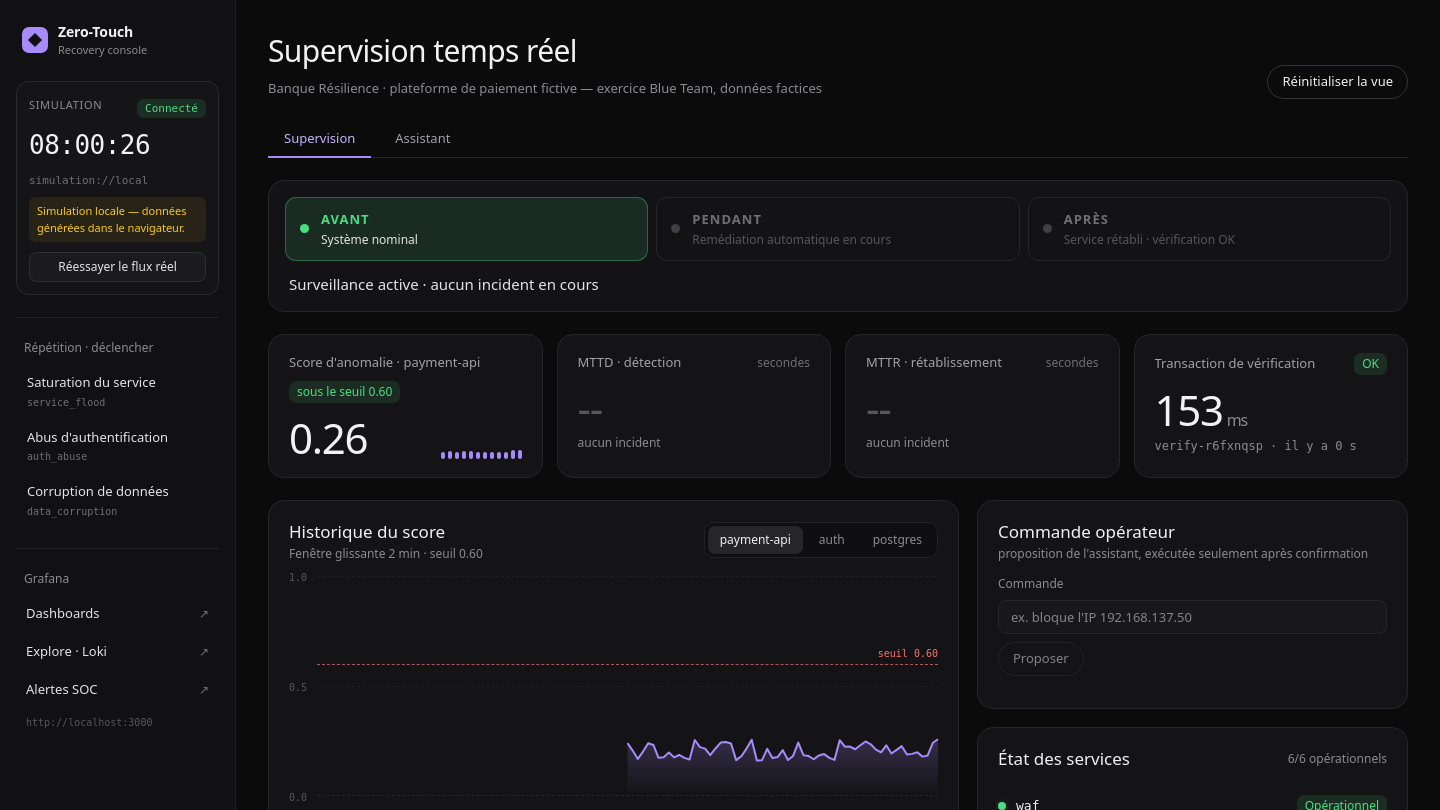
Test: Sources : simulation locale et déclencheurs › mode simulation : flux local signalé, incident complet jusqu’à APRÈS sans serveur
Check: the text "simulation://local" is shown, box [29,174,148,186]
Check: the text "Simulation locale — données générées dans le navigateur." is shown, box [29,197,206,242]
Click the button "Corruption de données data_corruption". click: (118, 500)
box: [16,475,219,526]
Wait 9000 ms
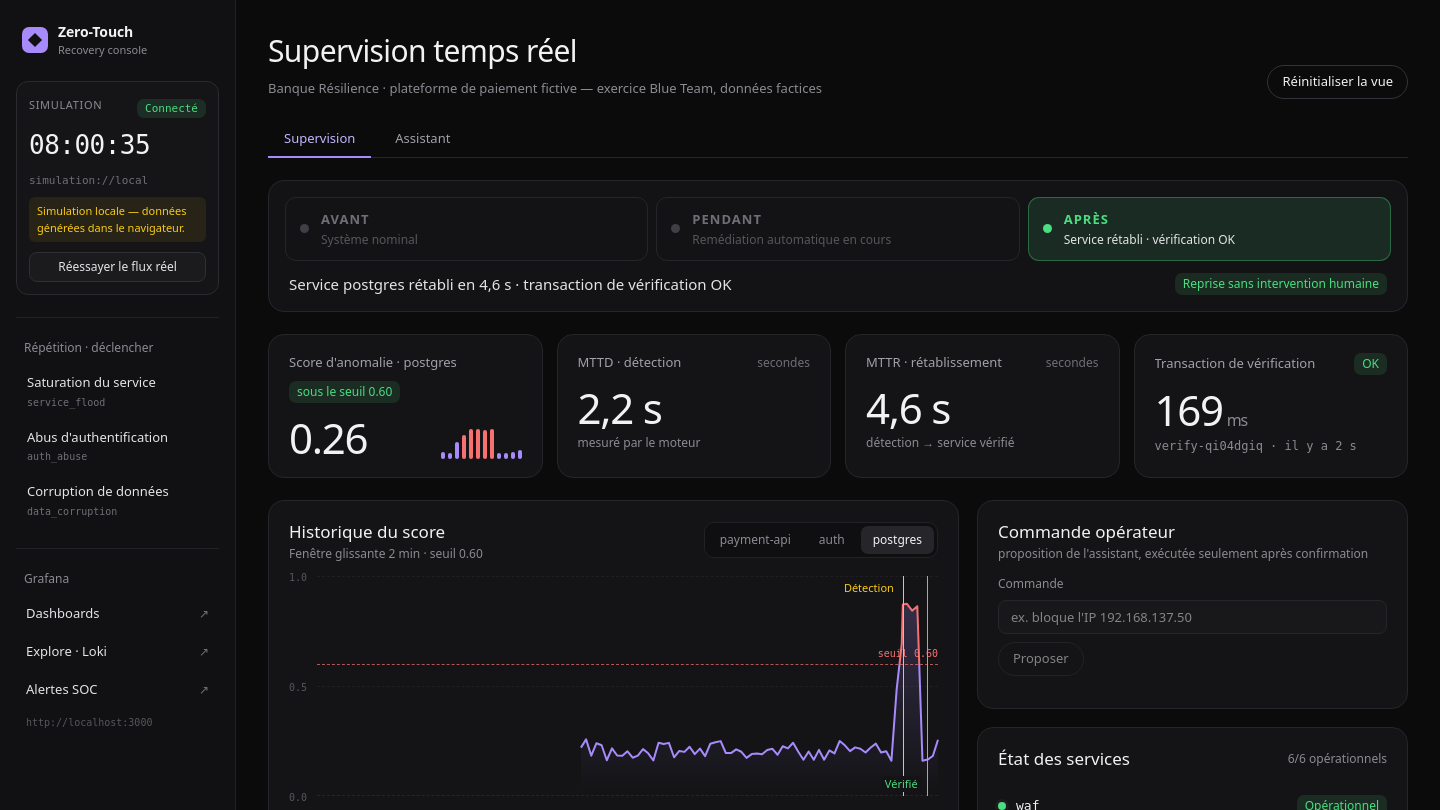
Check: the list item "PENDANT Remédiation automatique en cours" is shown, box [656,197,1020,260]
Check: the text with test id "headline" shows "postgres", box [289,274,732,294]
